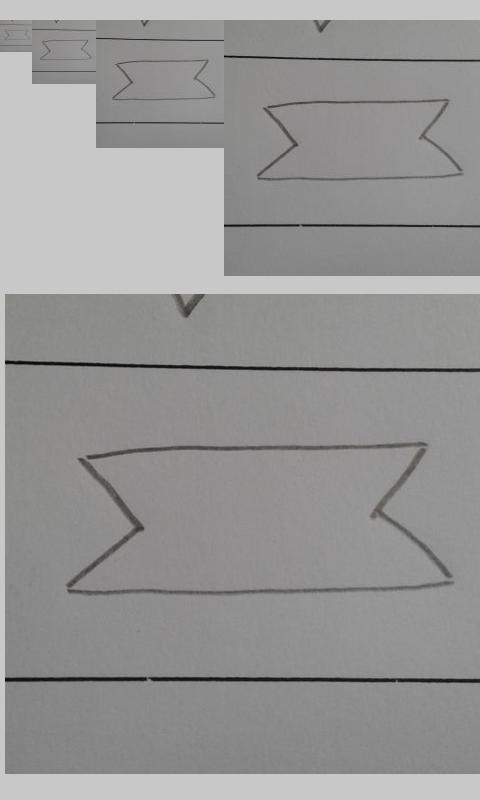edit_text: (63, 441, 451, 597), (255, 98, 463, 182), (112, 59, 217, 101), (39, 39, 92, 61), (4, 29, 30, 41)
